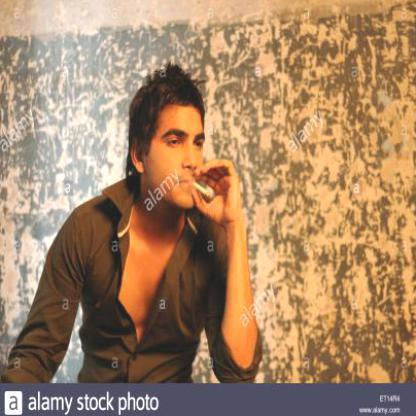cigarette: (192, 179, 212, 200)
person: (74, 67, 224, 379)
